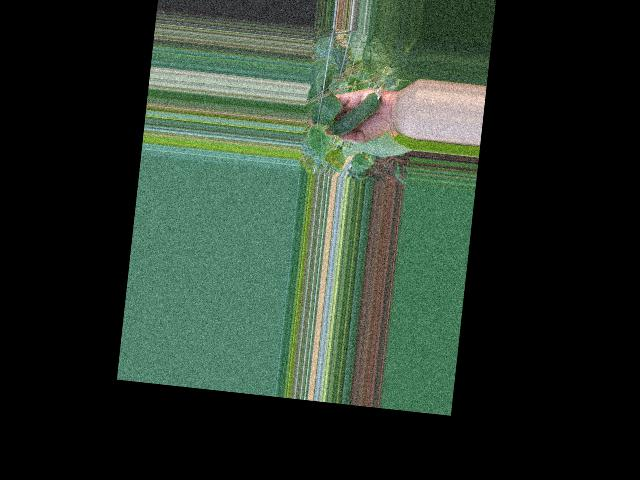cucumber: (331, 81, 383, 139)
